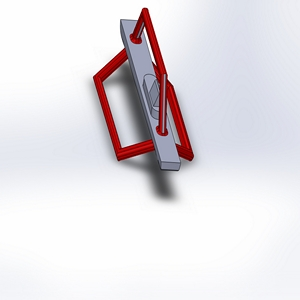submarine: (77, 1, 235, 207)
